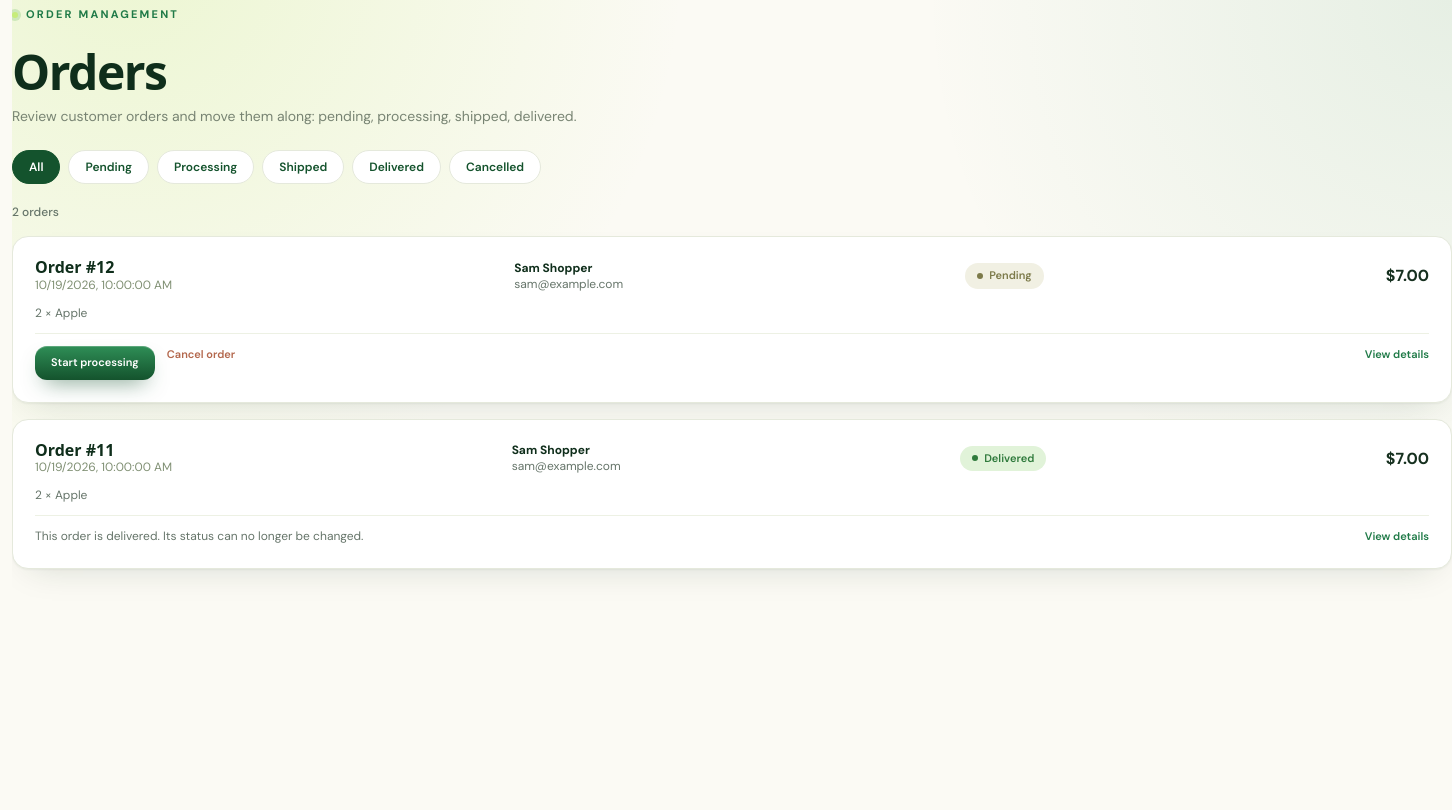
Test case: Sprint 4: admin screens › orders offer only the allowed next steps, filter by status and save a change
This screenshot has width=1452, height=810.
Expected: the button "Start processing" is shown, [35,346,155,380]
Expected: the button "Cancel order" is shown, [167,346,235,364]
Click the button "Pending".
click(109, 167)  # box [68,150,149,184]
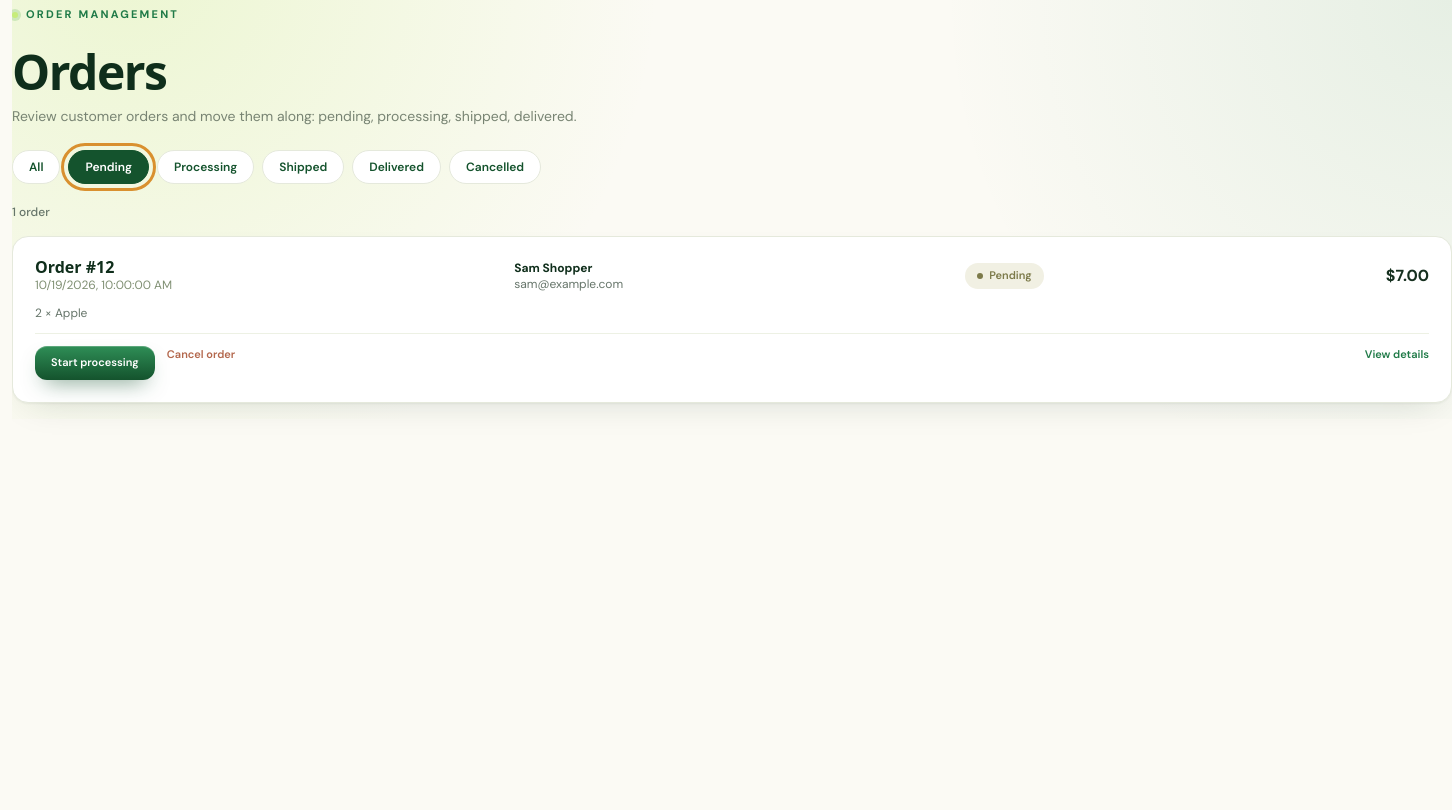
Expected: the heading "Order #11" is gone
Click the button "Delivered".
click(397, 167)  # box [352,150,441,184]
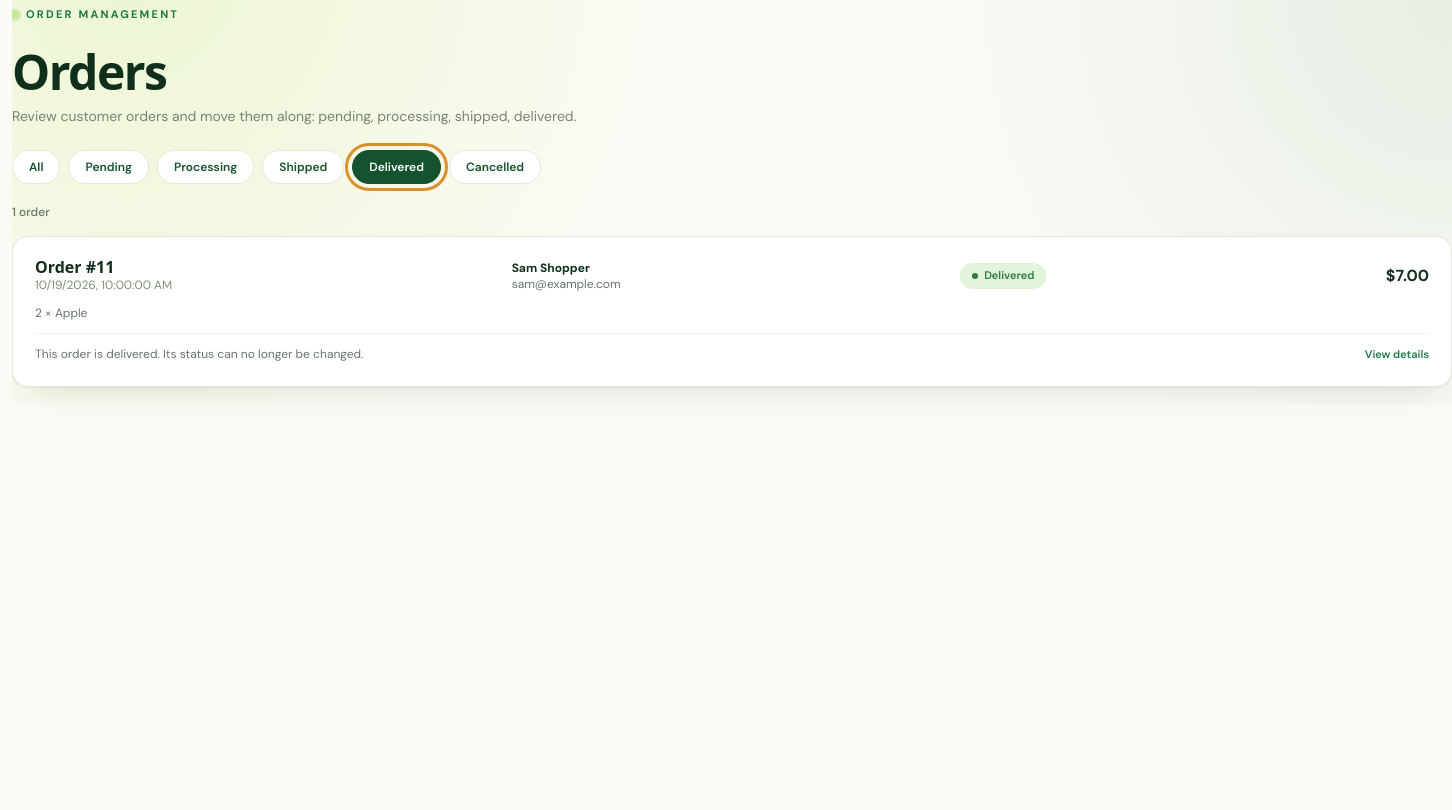
Expected: the heading "Order #11" is shown, [35,256,114,278]
Expected: the heading "Order #12" is gone
Click the button "Pending".
click(109, 167)  # box [68,150,149,184]
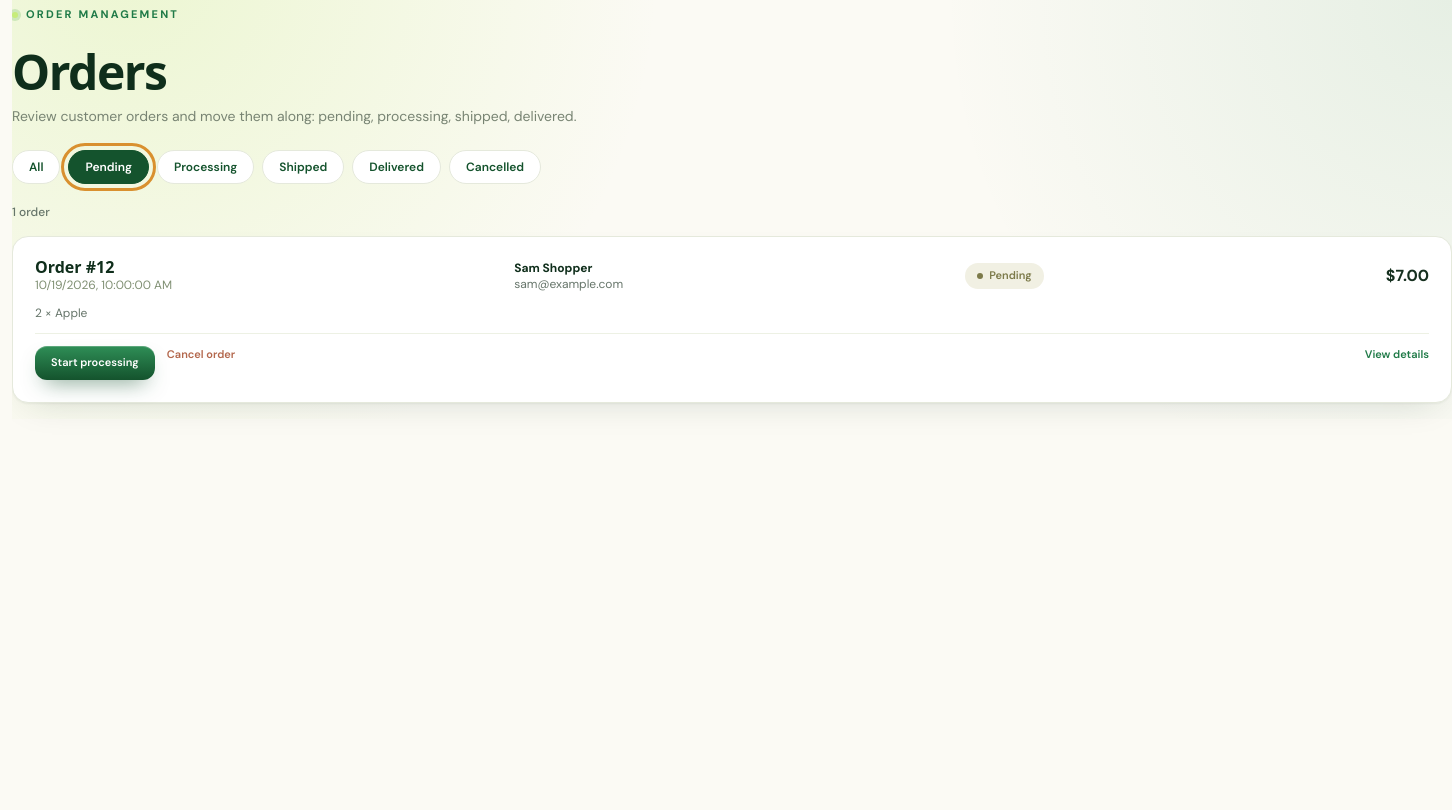
Expected: the heading "Order #12" is shown, [35,256,114,278]
Click the button "Start processing".
click(95, 363)  # box [35,346,155,380]
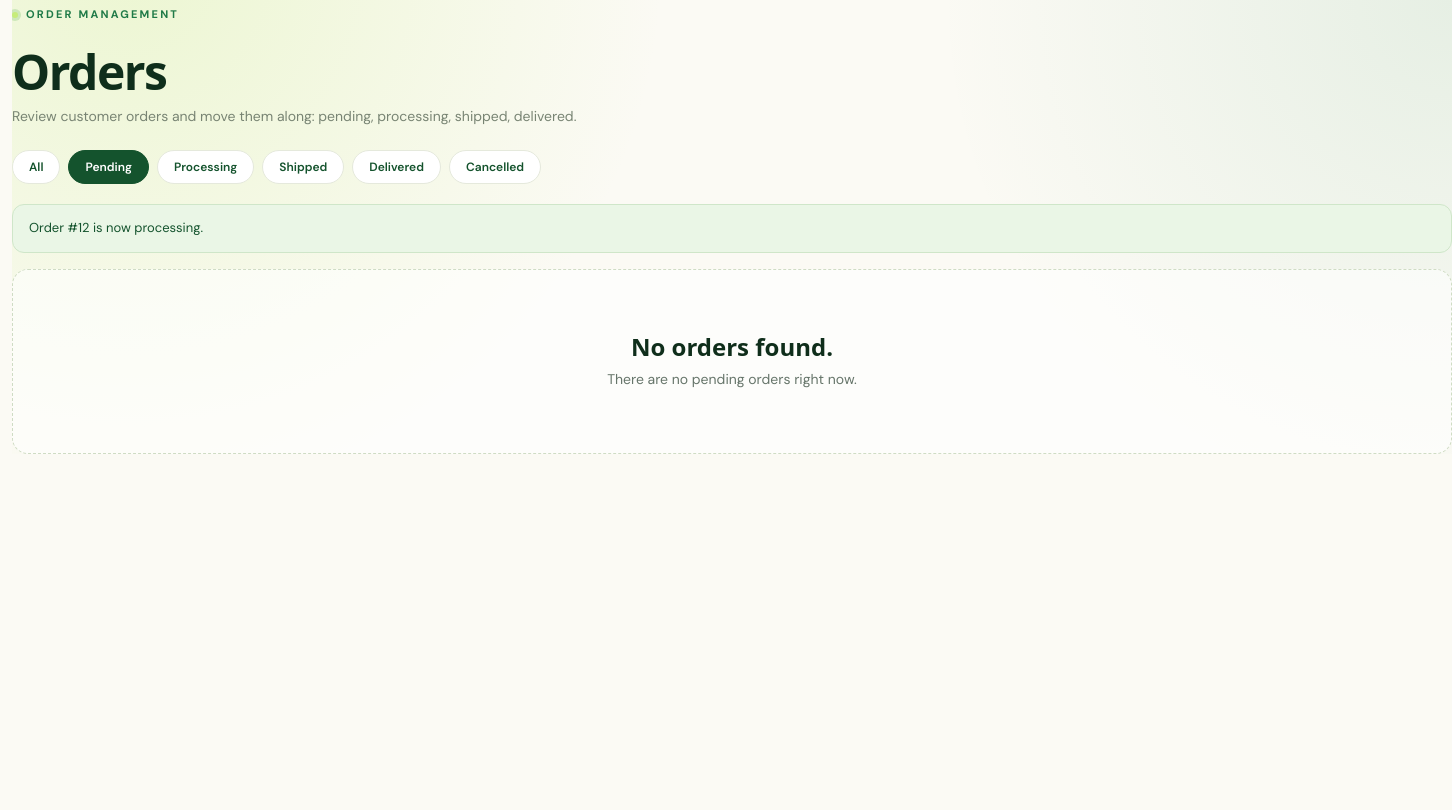
Expected: the text "Order #12 is now processing." is shown, [12,204,1451,253]
